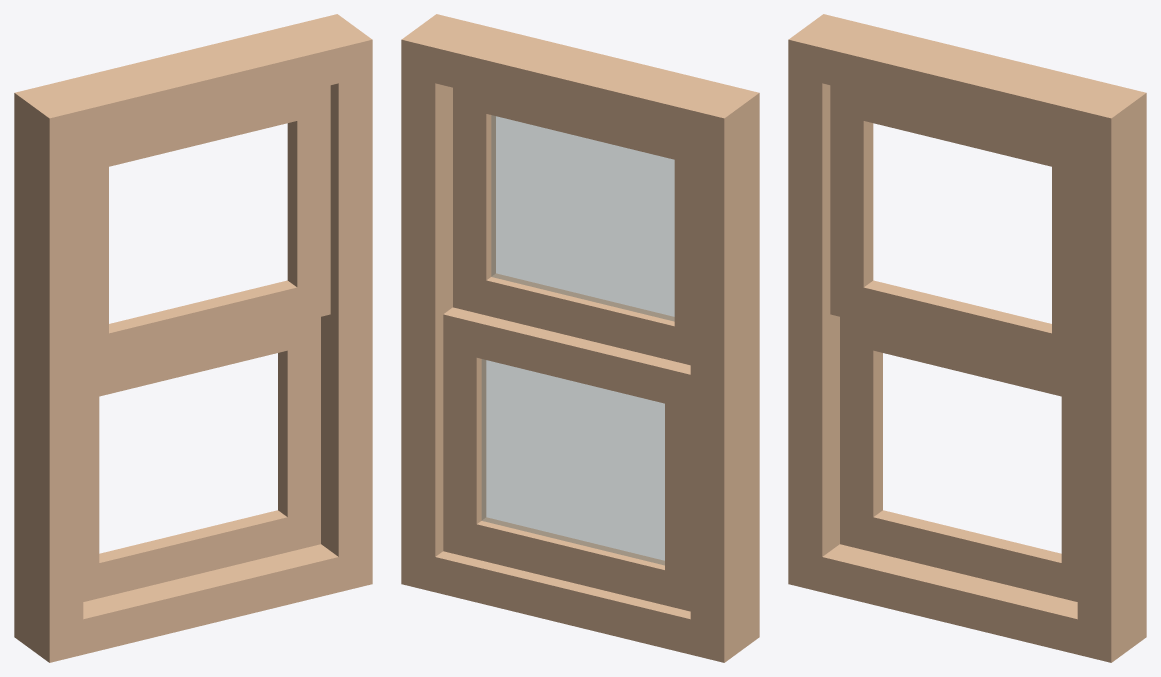
Rendered from finestra.glb.
3 renders of one model, left to right at view 1: azimuth 30°, elevation 25°; view 2: azimuth 150°, elevation 25°; view 3: azimuth 330°, elevation 25°, orthographic.
Parts seen in each view (by area): view 1: wallWindowSlide(Clone), windowTop, windowBottom; view 2: wallWindowSlide(Clone), windowBottom, windowTop; view 3: wallWindowSlide(Clone), windowTop, windowBottom.
Part boxes in pixels (x1=…): wallWindowSlide(Clone): x1=14, y1=14, x2=372, y2=662; windowTop: x1=83, y1=85, x2=330, y2=374; windowBottom: x1=83, y1=317, x2=320, y2=601; wallWindowSlide(Clone): x1=401, y1=14, x2=759, y2=662; windowBottom: x1=443, y1=307, x2=690, y2=611; windowTop: x1=453, y1=87, x2=690, y2=365; wallWindowSlide(Clone): x1=788, y1=14, x2=1146, y2=662; windowTop: x1=830, y1=85, x2=1077, y2=374; windowBottom: x1=840, y1=317, x2=1077, y2=601.
Size of the model in its own units: 0.474 by 0.7635 by 0.0891.
